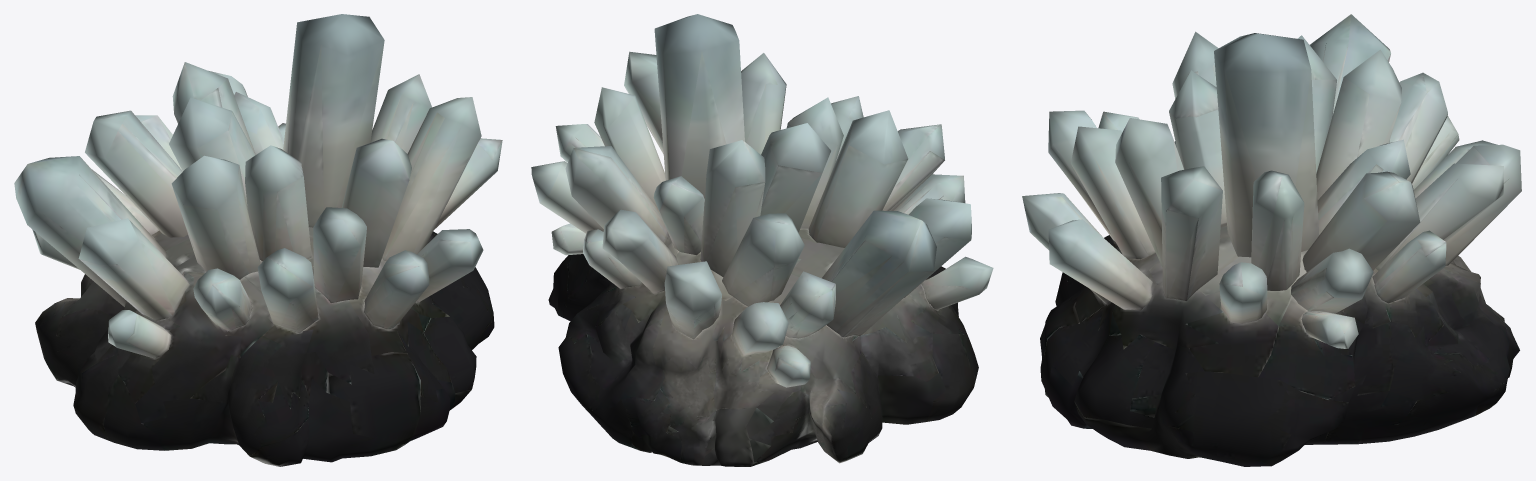
Rendered from crystals.glb.
3 views of the same model, side by side, from view 1: azimuth 30°, elevation 25°; view 2: azimuth 150°, elevation 25°; view 3: azimuth 270°, elevation 25° (orthographic). The views are drawn at different scales.
Bounding box in the file's own units: 0.9619 × 0.7529 × 0.8868.
Materials: 1 (1 with a texture image).
